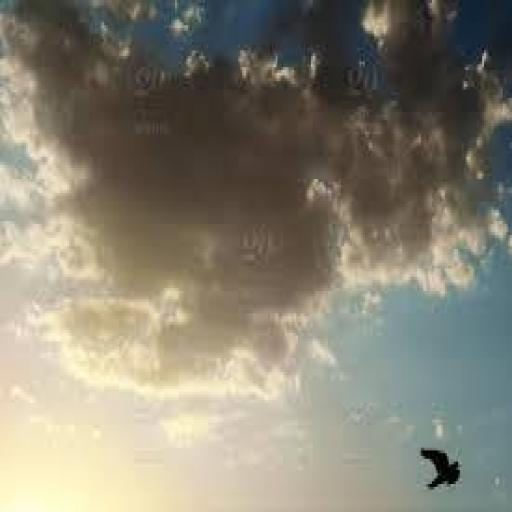birds: (419, 444, 464, 493)
